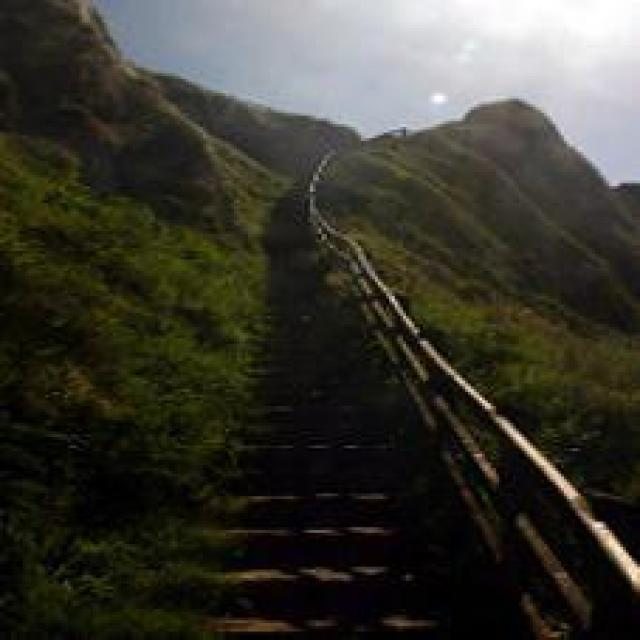upstair: (210, 362, 478, 635)
